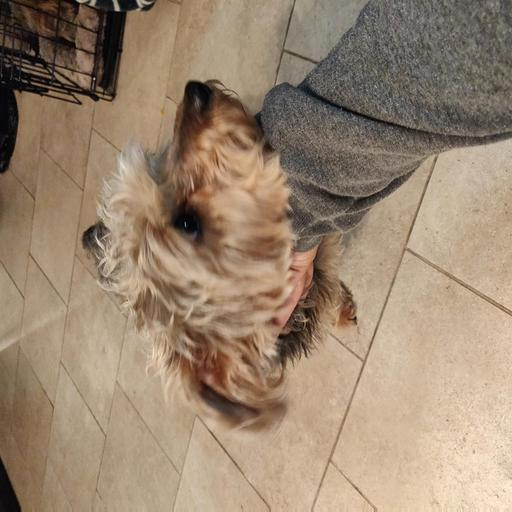dog: (80, 79, 334, 333)
